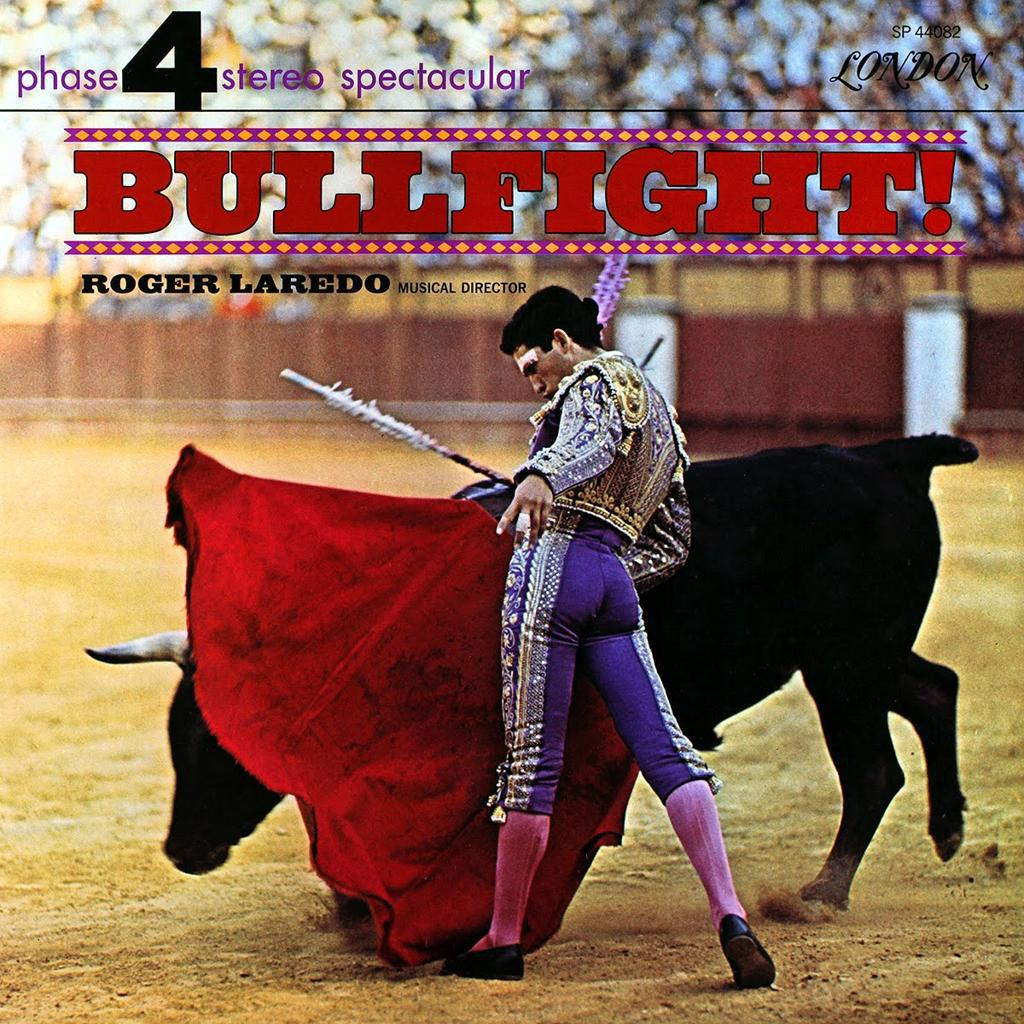face: (517, 357, 573, 409)
